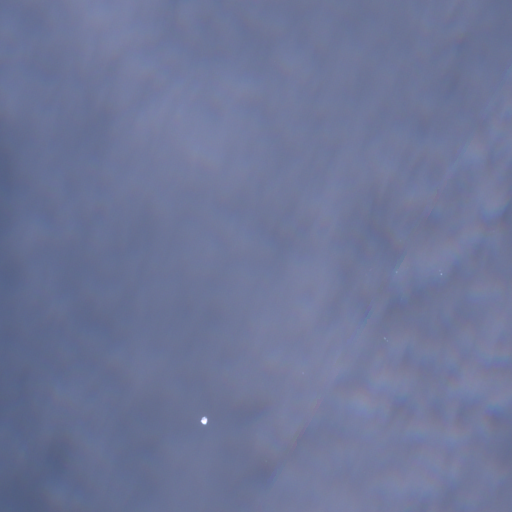Iceberg: (201, 416, 207, 424), (440, 273, 442, 274), (384, 337, 385, 339)
